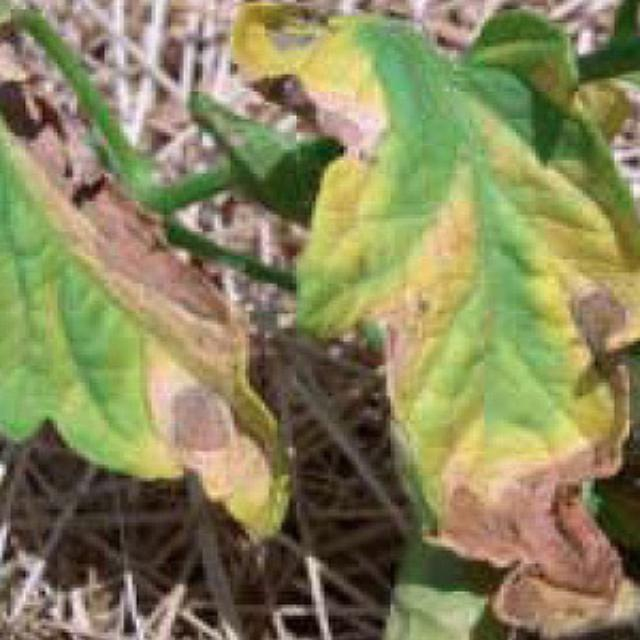Early_blight: (1, 17, 280, 501), (418, 428, 640, 640), (341, 276, 447, 424), (257, 60, 392, 168), (556, 263, 640, 426), (230, 2, 353, 65)
